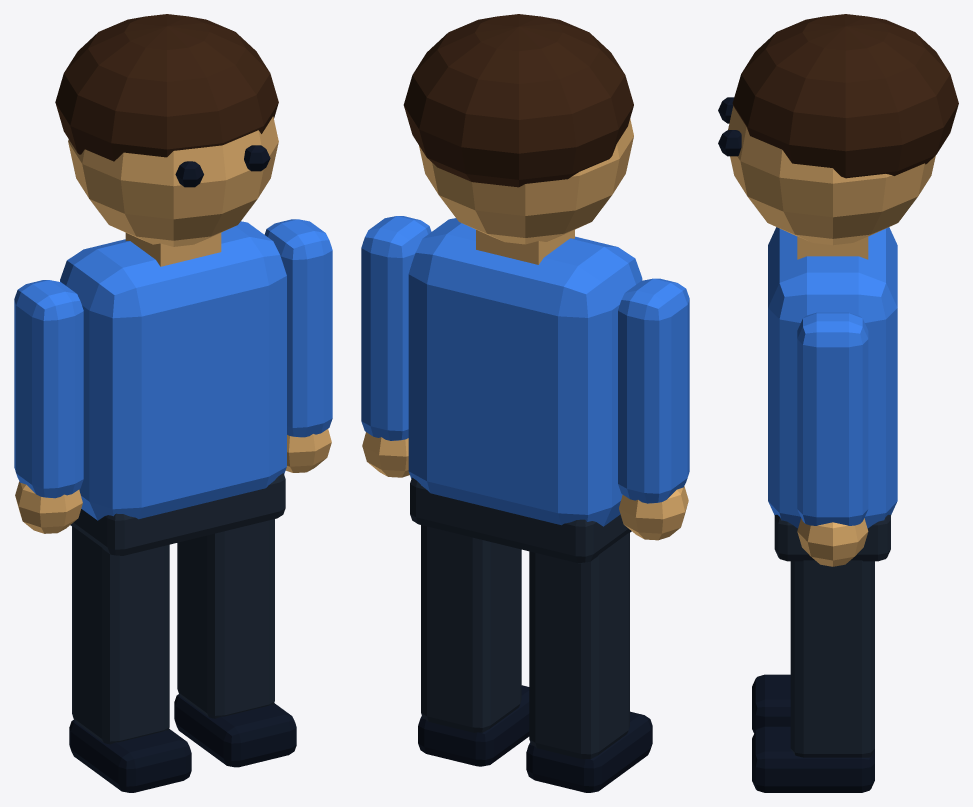
Rendered from person-a-StCaiX-6.glb.
3 renders of one model, left to right at view 1: azimuth 30°, elevation 25°; view 2: azimuth 150°, elevation 25°; view 3: azimuth 270°, elevation 25°, orthographic. The views are drawn at different scales.
Visible parts, largest first — view 1: body, legL, legR, armL, armR; view 2: body, legL, legR, armL, armR; view 3: body, legR, armR, legL.
Boxes of the visible parts, <box> form: body: <box>55,14,286,555</box>; legL: <box>69,526,191,792</box>; legR: <box>174,519,296,767</box>; armL: <box>14,280,83,533</box>; armR: <box>264,219,332,472</box>; body: <box>403,14,642,563</box>; legL: <box>526,533,652,792</box>; legR: <box>418,525,529,766</box>; armL: <box>618,278,689,540</box>; armR: <box>361,216,431,477</box>; body: <box>718,14,958,561</box>; legR: <box>752,560,874,792</box>; armR: <box>797,312,868,566</box>; legL: <box>752,674,790,733</box>.
Size of the model in its own units: 0.112 by 0.2483 by 0.0745.
